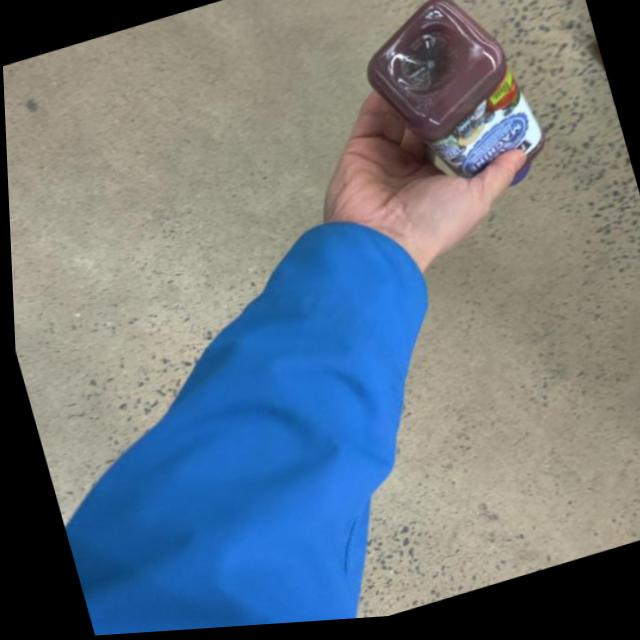Juice: (351, 0, 553, 226)
